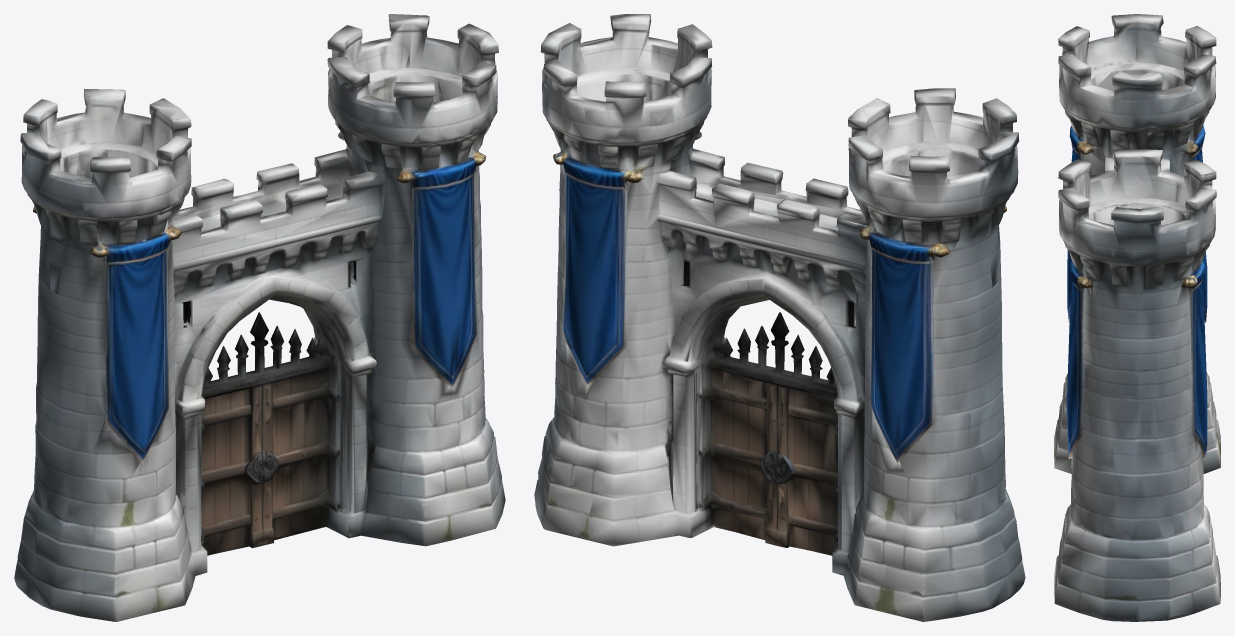
The model's file is hum_gate.glb.
3 views of the same model, side by side, from view 1: azimuth 30°, elevation 25°; view 2: azimuth 150°, elevation 25°; view 3: azimuth 270°, elevation 25° (orthographic). The views are drawn at different scales.
Parts seen in each view (by area): view 1: node_0; view 2: node_0; view 3: node_0.
Part boxes in pixels (x1,y1,x2,y2): node_0: (14, 14, 505, 621); node_0: (534, 14, 1025, 621); node_0: (1054, 14, 1220, 621).
Size of the model in its own units: 0.8766 by 0.8261 by 0.3057.
Materials: 1 (1 with a texture image).
